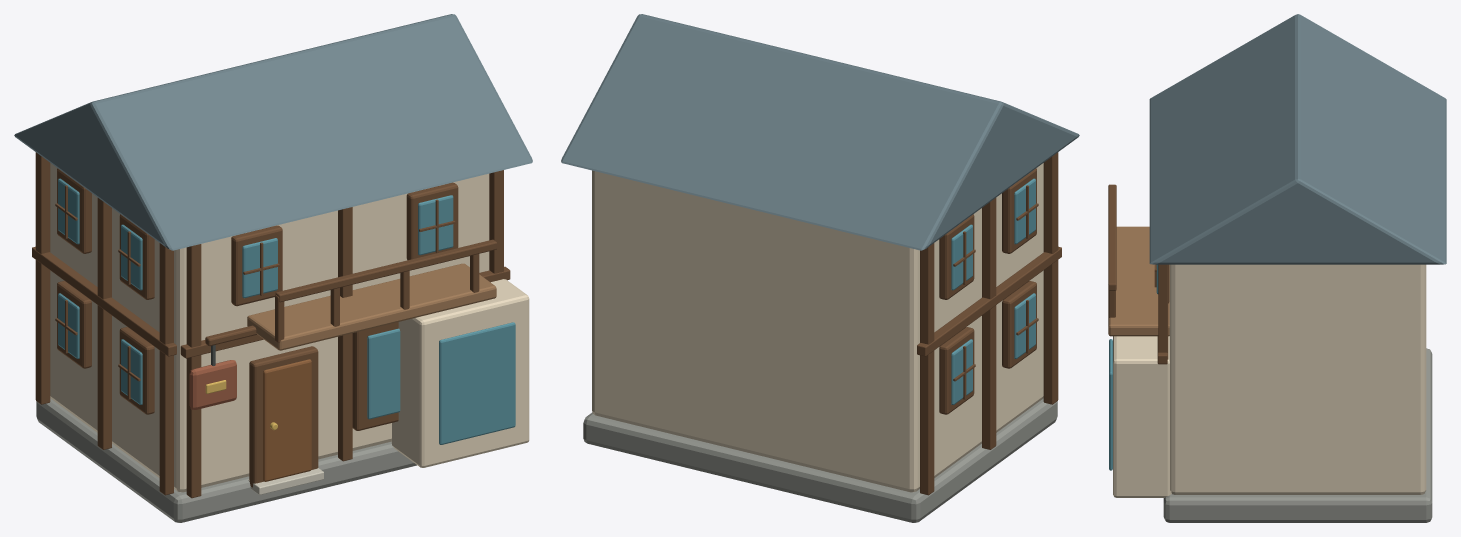
File: temperate-merchant-1.glb
3 renders of one model, left to right at view 1: azimuth 30°, elevation 25°; view 2: azimuth 150°, elevation 25°; view 3: azimuth 270°, elevation 25°, orthographic. The views are drawn at different scales.
Parts seen in each view (by area): view 1: Blue slate, Warm lime, Dark beams, Blue glass, Foundation stone, Aged oak, Door oak, Painted sign, Cut limestone; view 2: Warm lime, Blue slate, Dark beams, Foundation stone, Blue glass; view 3: Warm lime, Blue slate, Foundation stone, Aged oak, Dark beams, Blue glass.
Part boxes in pixels (x1,y1,x2,y2): Blue slate: (14, 14, 532, 250); Warm lime: (50, 163, 529, 492); Dark beams: (32, 152, 510, 498); Blue glass: (58, 178, 515, 444); Foundation stone: (36, 398, 416, 522); Aged oak: (247, 263, 496, 350); Door oak: (263, 359, 311, 481); Painted sign: (189, 360, 236, 409); Cut limestone: (248, 468, 323, 494); Warm lime: (592, 163, 1043, 492); Blue slate: (561, 14, 1079, 250); Dark beams: (917, 152, 1061, 495); Foundation stone: (583, 398, 1057, 522); Blue glass: (951, 178, 1035, 404); Warm lime: (1113, 264, 1426, 497); Blue slate: (1149, 14, 1446, 264); Foundation stone: (1163, 348, 1432, 522); Aged oak: (1108, 226, 1169, 336); Dark beams: (1108, 184, 1169, 364); Blue glass: (1109, 264, 1158, 470).
Bounding box in the file's own units: 3.94 × 3.86 × 3.36.
